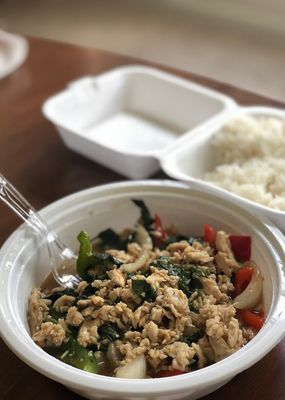burger: (1, 172, 49, 238)
curry: (76, 230, 118, 279)
sushi: (7, 180, 282, 400), (160, 105, 285, 230)
